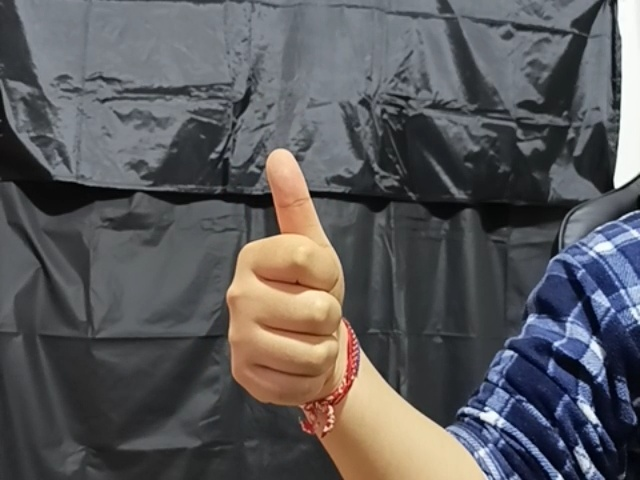A: (209, 146, 372, 409)
